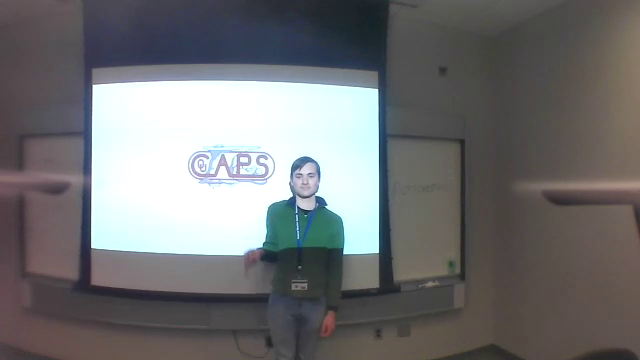down: (240, 244, 267, 275)
